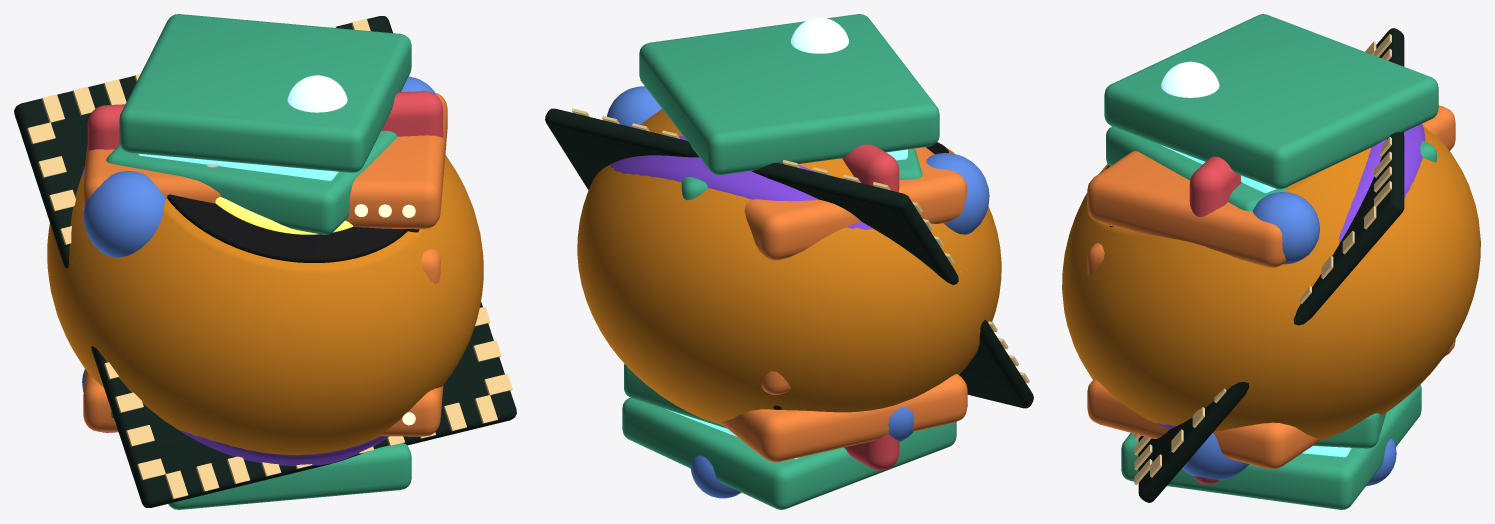
The model's file is systems.glb.
The picture shows the model from 3 angles, left to right: view 1: azimuth 30°, elevation 25°; view 2: azimuth 150°, elevation 25°; view 3: azimuth 270°, elevation 25°; orthographic projection. The views are drawn at different scales.
Visible parts, largest first — view 1: sys_voice-memory.voice_finish, sys_carbon-ledger.ledger_finish, sys_agent-os.pcb, sys_aws-rebuild.cloud_finish, sys_agent-os.gold, sys_voice-memory.space_black, sys_night-builds.graph_finish, sys_vision-inventory.vision_finish, sys_listening-agents.listen_finish, sys_night-builds.graph_glow, sys_carbon-ledger.ledger_glow, sys_voice-memory.voice_glow (+1 smaller); view 2: sys_voice-memory.voice_finish, sys_carbon-ledger.ledger_finish, sys_aws-rebuild.cloud_finish, sys_agent-os.pcb, sys_night-builds.graph_finish, sys_listening-agents.listen_finish, sys_vision-inventory.vision_finish, sys_night-builds.graph_glow, sys_agent-os.gold; view 3: sys_voice-memory.voice_finish, sys_carbon-ledger.ledger_finish, sys_aws-rebuild.cloud_finish, sys_agent-os.pcb, sys_night-builds.graph_finish, sys_agent-os.gold, sys_vision-inventory.vision_finish, sys_listening-agents.listen_finish, sys_night-builds.graph_glow, sys_carbon-ledger.ledger_glow.
Boxes of the visible parts, x1=… form: sys_voice-memory.voice_finish: x1=47, y1=155, x2=483, y2=455; sys_carbon-ledger.ledger_finish: x1=106, y1=14, x2=411, y2=509; sys_agent-os.pcb: x1=14, y1=16, x2=516, y2=507; sys_aws-rebuild.cloud_finish: x1=83, y1=93, x2=447, y2=436; sys_agent-os.gold: x1=27, y1=18, x2=512, y2=499; sys_voice-memory.space_black: x1=167, y1=194, x2=408, y2=262; sys_night-builds.graph_finish: x1=82, y1=76, x2=435, y2=392; sys_vision-inventory.vision_finish: x1=87, y1=91, x2=443, y2=432; sys_listening-agents.listen_finish: x1=81, y1=166, x2=389, y2=465; sys_night-builds.graph_glow: x1=287, y1=75, x2=347, y2=112; sys_carbon-ledger.ledger_glow: x1=138, y1=153, x2=338, y2=180; sys_voice-memory.voice_glow: x1=215, y1=197, x2=353, y2=234; sys_voice-memory.voice_finish: x1=577, y1=109, x2=1001, y2=424; sys_carbon-ledger.ledger_finish: x1=622, y1=14, x2=956, y2=509; sys_aws-rebuild.cloud_finish: x1=720, y1=147, x2=967, y2=462; sys_agent-os.pcb: x1=545, y1=108, x2=1033, y2=408; sys_night-builds.graph_finish: x1=607, y1=86, x2=989, y2=498; sys_listening-agents.listen_finish: x1=610, y1=136, x2=872, y2=229; sys_vision-inventory.vision_finish: x1=842, y1=144, x2=899, y2=470; sys_night-builds.graph_glow: x1=791, y1=17, x2=848, y2=53; sys_agent-os.gold: x1=572, y1=108, x2=1029, y2=383; sys_voice-memory.voice_finish: x1=1062, y1=124, x2=1480, y2=441; sys_carbon-ledger.ledger_finish: x1=1104, y1=14, x2=1438, y2=509; sys_aws-rebuild.cloud_finish: x1=1087, y1=105, x2=1455, y2=469; sys_agent-os.pcb: x1=1138, y1=28, x2=1404, y2=502; sys_night-builds.graph_finish: x1=1182, y1=192, x2=1396, y2=486; sys_agent-os.gold: x1=1134, y1=34, x2=1391, y2=484; sys_vision-inventory.vision_finish: x1=1189, y1=156, x2=1241, y2=484; sys_listening-agents.listen_finish: x1=1156, y1=124, x2=1425, y2=428; sys_night-builds.graph_glow: x1=1161, y1=61, x2=1219, y2=97; sys_carbon-ledger.ledger_glow: x1=1160, y1=144, x2=1351, y2=457.
Bounding box in the file's own units: 1.84 × 1.97 × 1.81.
